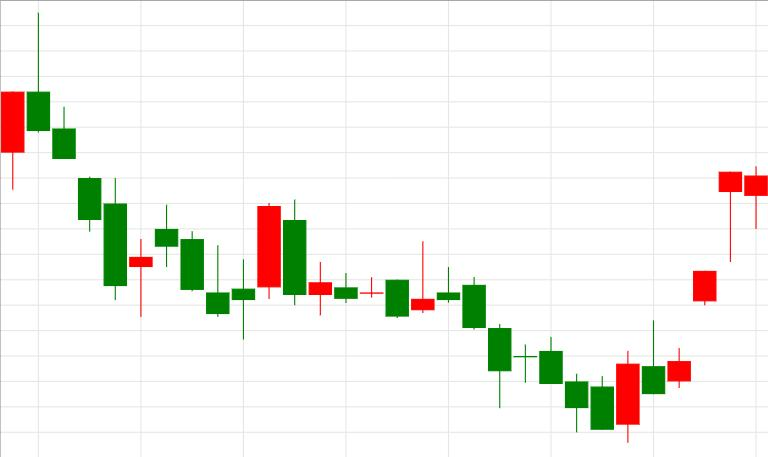bullish_engulfing_rise: (438, 268, 640, 444)
